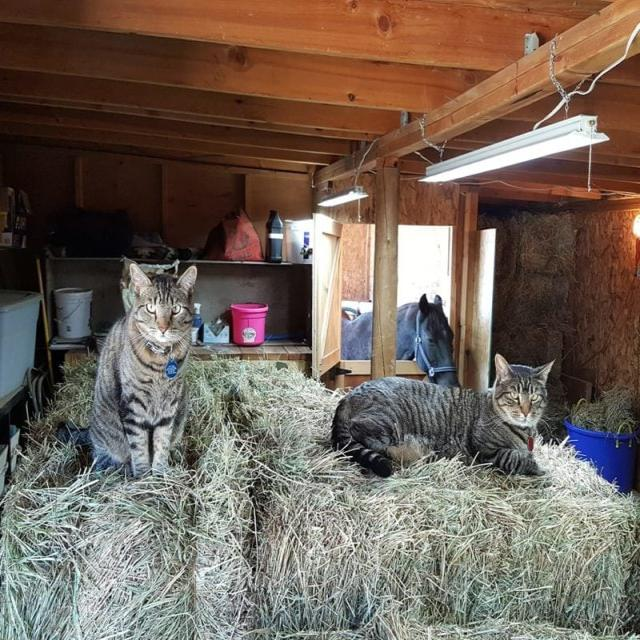cat: (332, 355, 552, 476), (82, 262, 196, 477)
